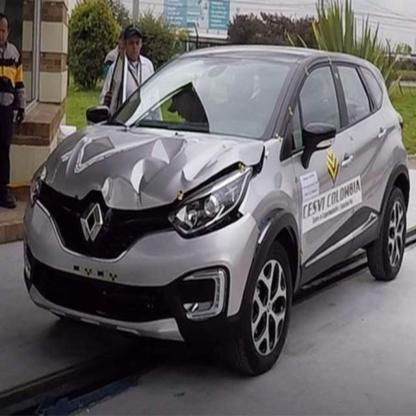door: (296, 116, 398, 286)
front_bumper: (22, 200, 261, 344)
headlamp: (170, 170, 252, 235), (28, 162, 46, 208)
hood: (44, 122, 264, 206)
